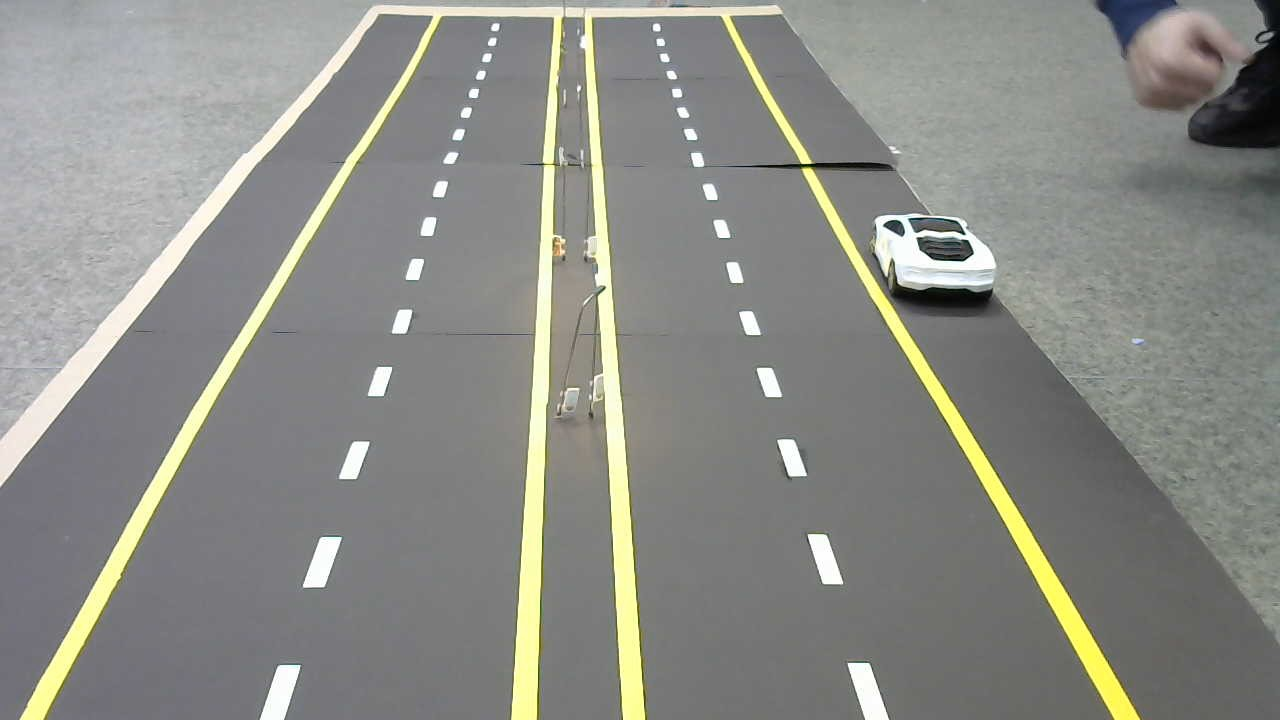back_car: (866, 208, 1001, 302)
